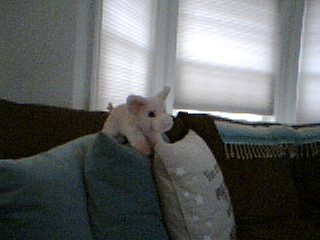piggy: (101, 84, 175, 156)
